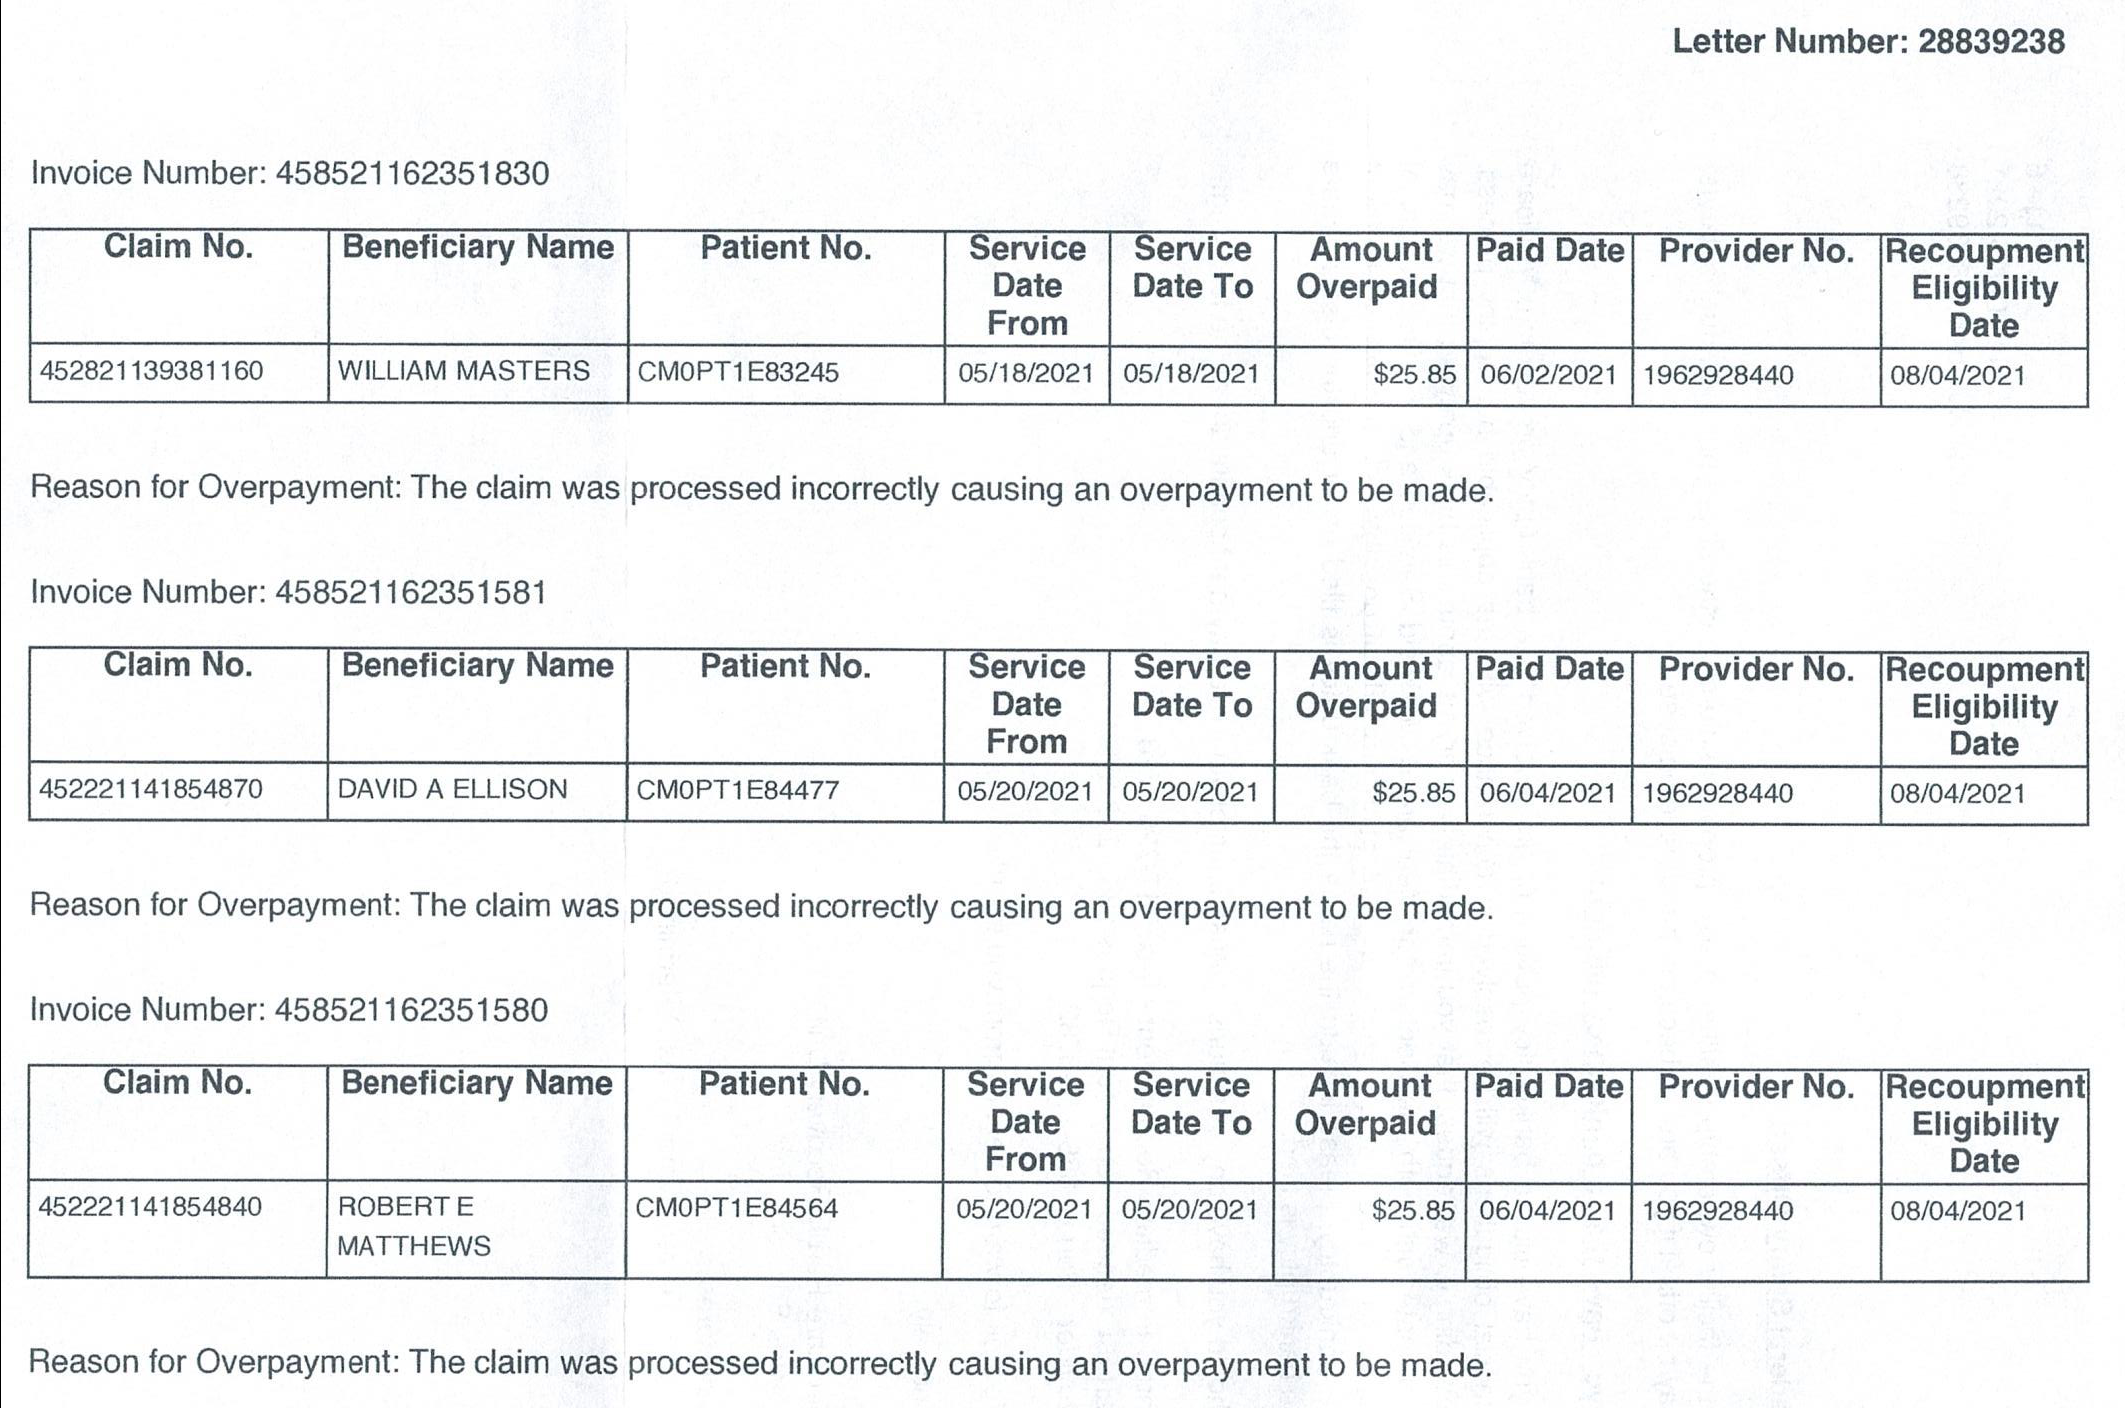data: (27, 141, 558, 204), (20, 977, 562, 1039), (20, 570, 561, 621)
table: (17, 1051, 2103, 1296), (16, 630, 2100, 838), (27, 215, 2097, 421)
